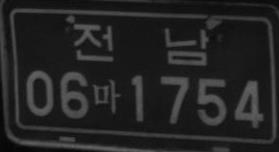0: (25, 69, 54, 118)
1: (125, 73, 152, 122)
4: (233, 80, 264, 128)
5: (196, 77, 228, 126)
6: (59, 70, 89, 118)
7: (159, 75, 190, 123)
마: (91, 78, 121, 114)
전남_D: (72, 22, 209, 67)
